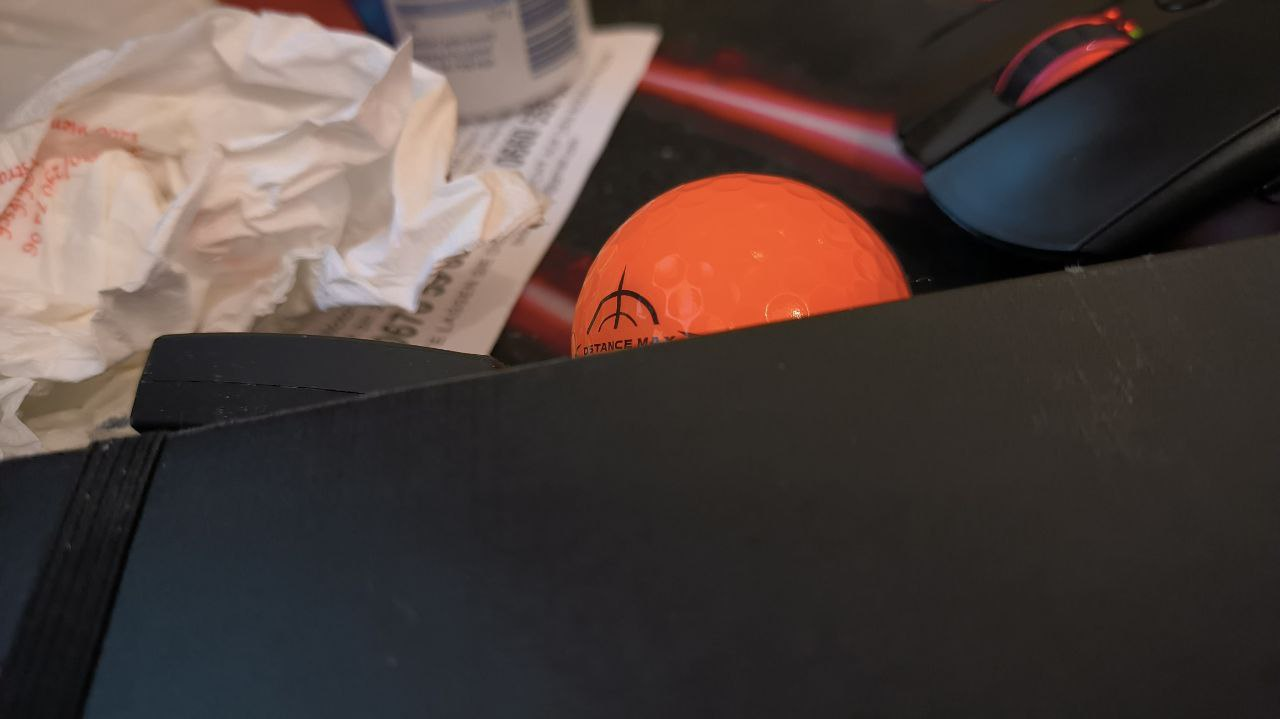orange_ball: (570, 172, 910, 358)
